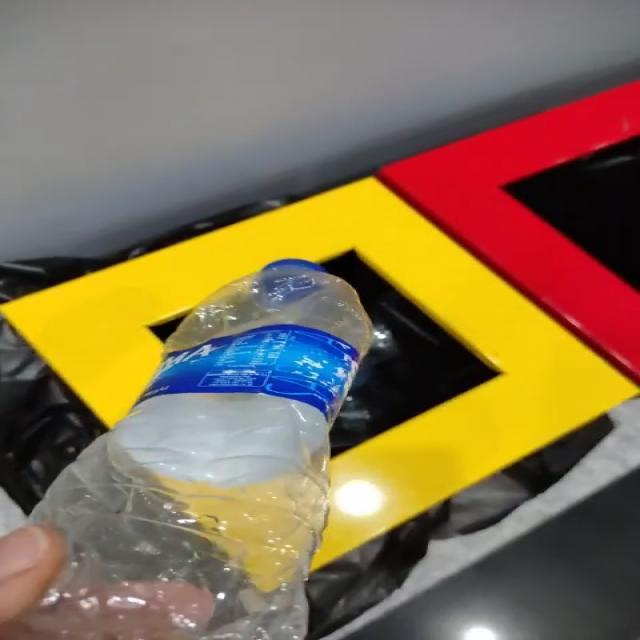Plastic: (164, 260, 372, 356)
